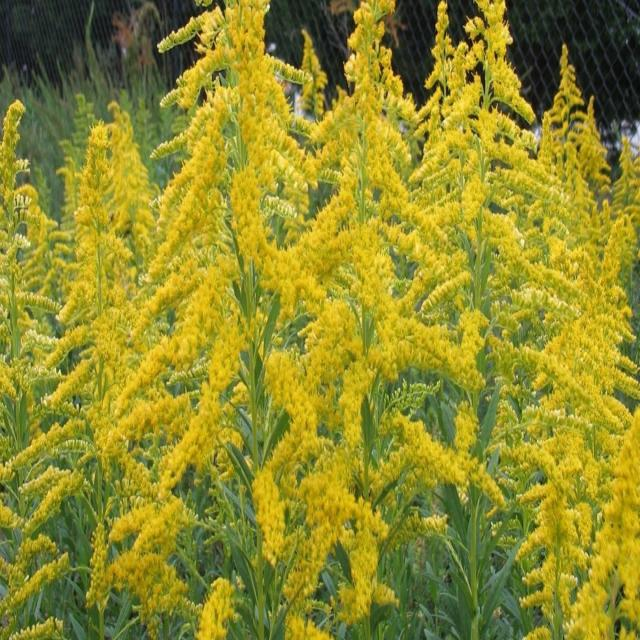ambrosia: (317, 20, 600, 330), (195, 23, 288, 613), (34, 117, 218, 308)
